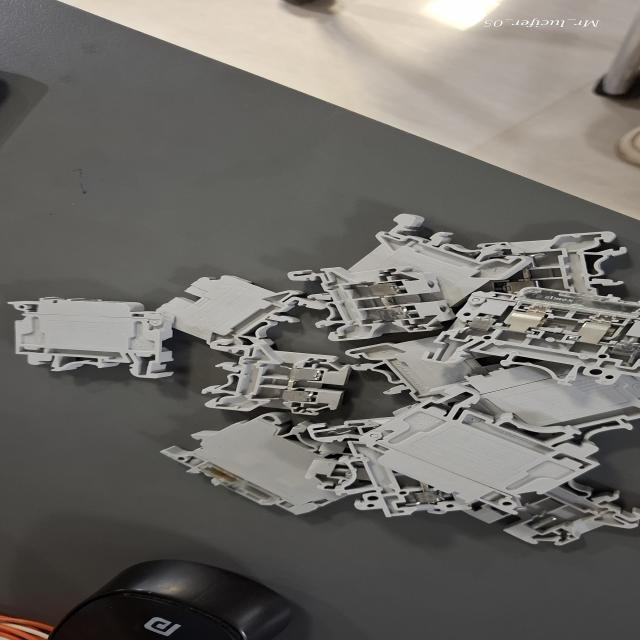Inverted: (134, 274, 316, 350)
Pass: (202, 338, 358, 418), (296, 266, 458, 340)
